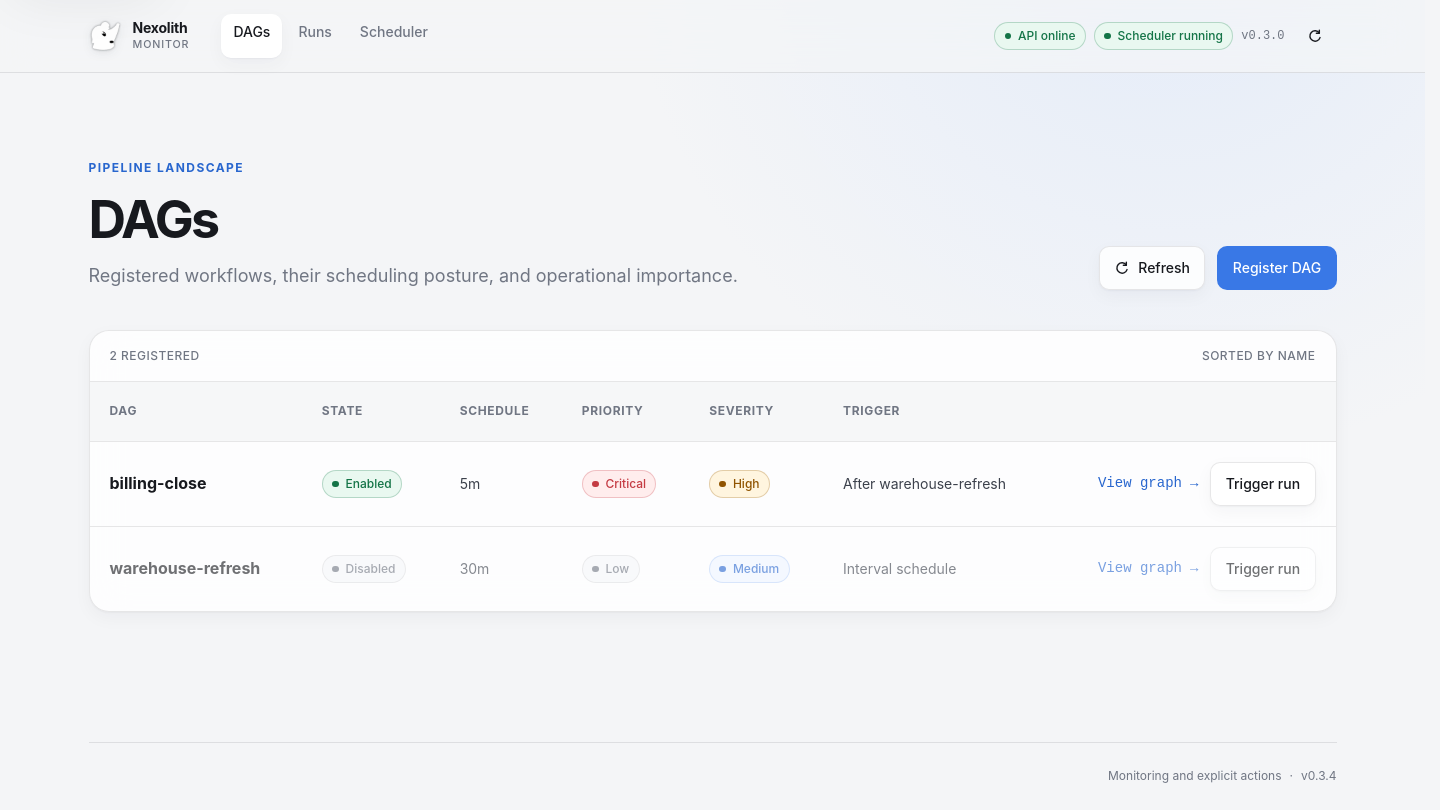
Test: prevents duplicate submissions and traps keyboard focus
Click the button "Register DAG" at (1277, 268), box [1217,246,1336,290]
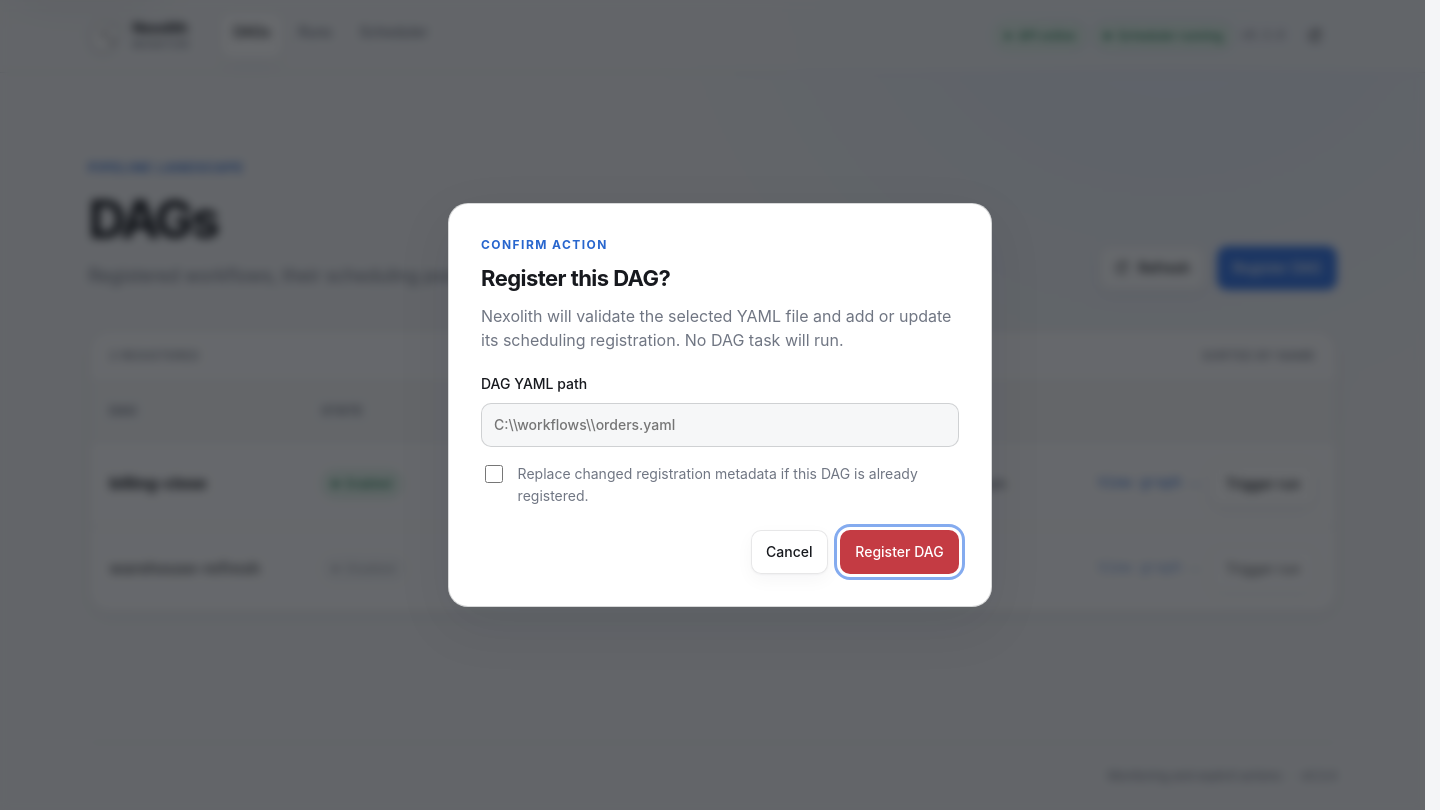
Press Tab
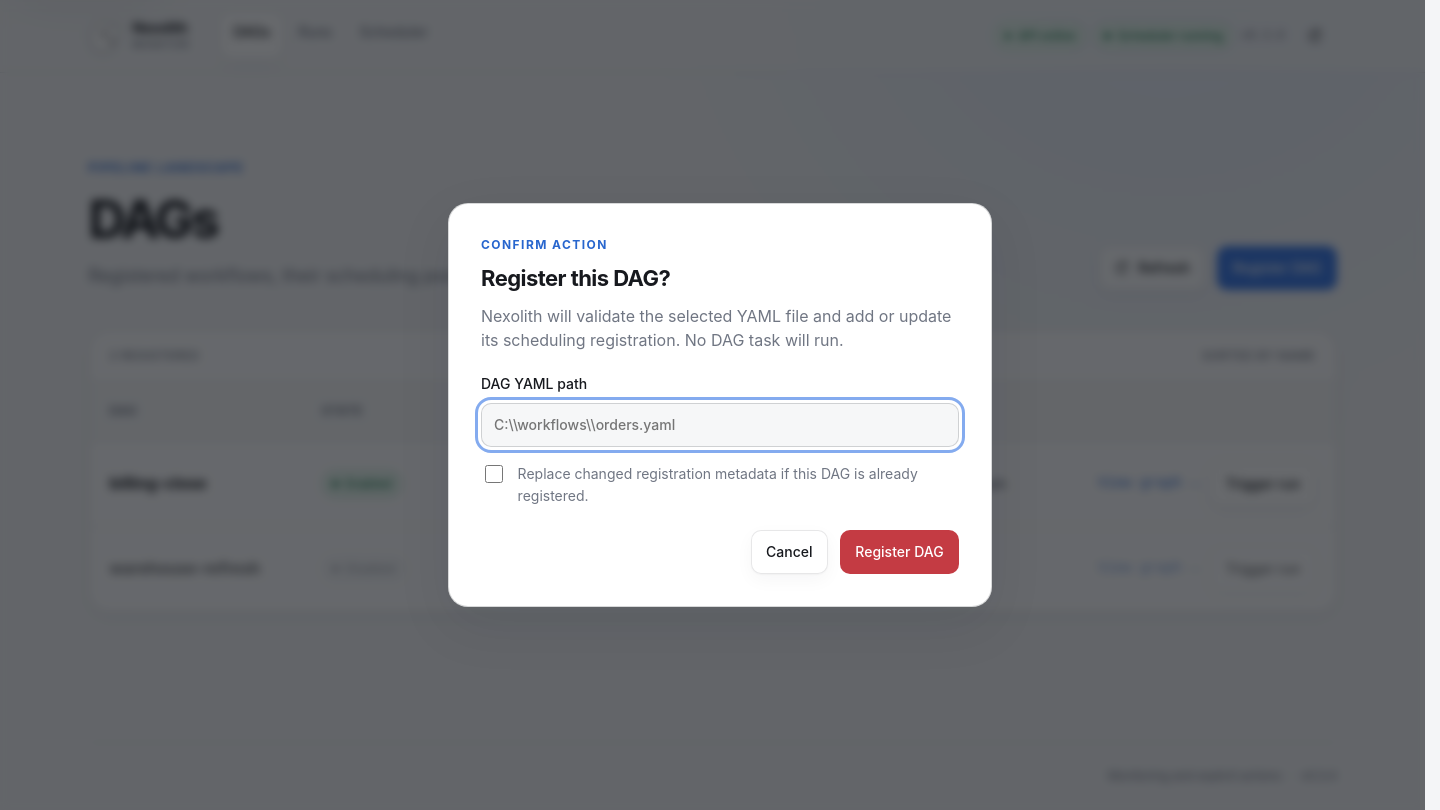
Type "orders.yaml" into the field labelled "DAG YAML path" at (720, 425), box [481,403,959,447]
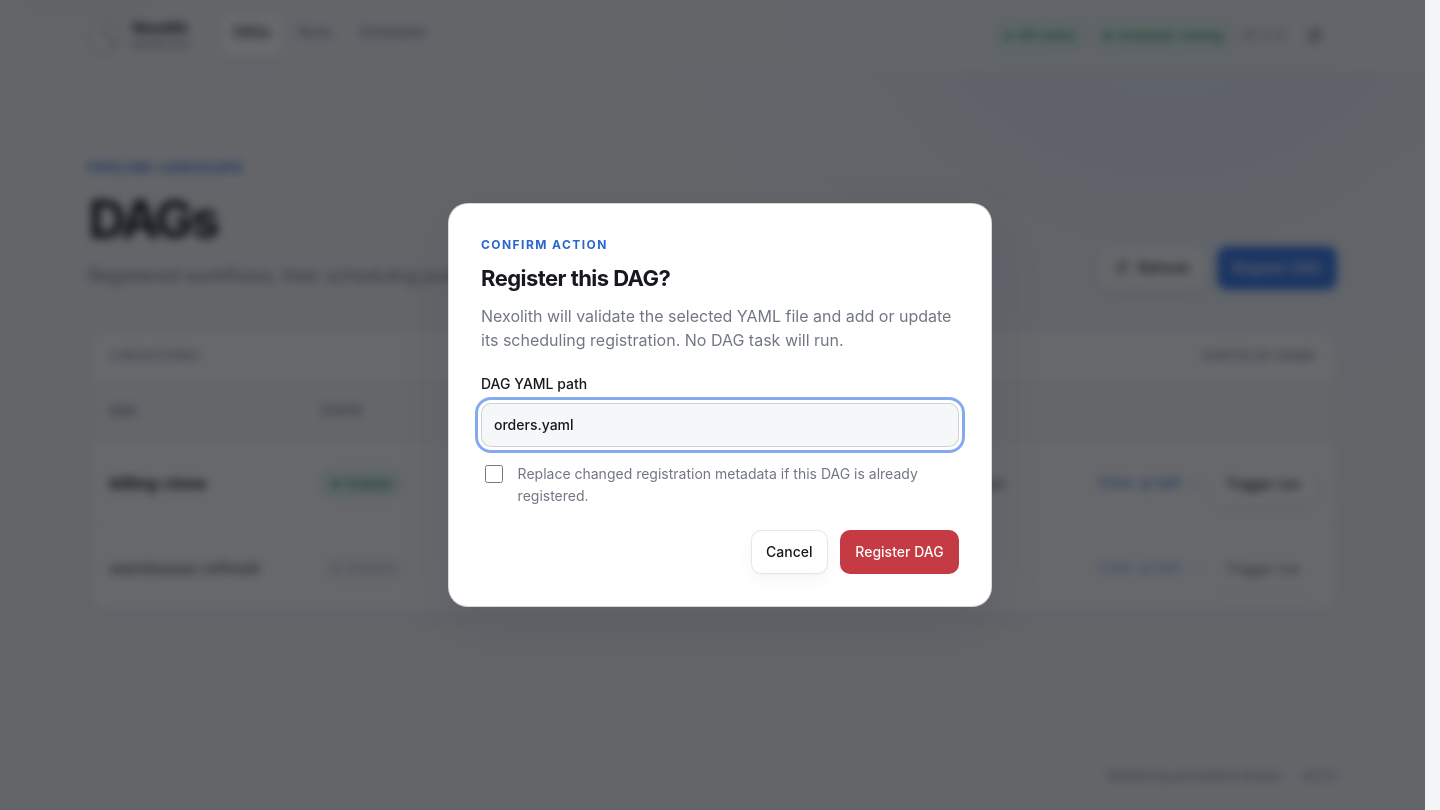
Click the button "Register DAG" at (899, 552), box [840,530,959,574]
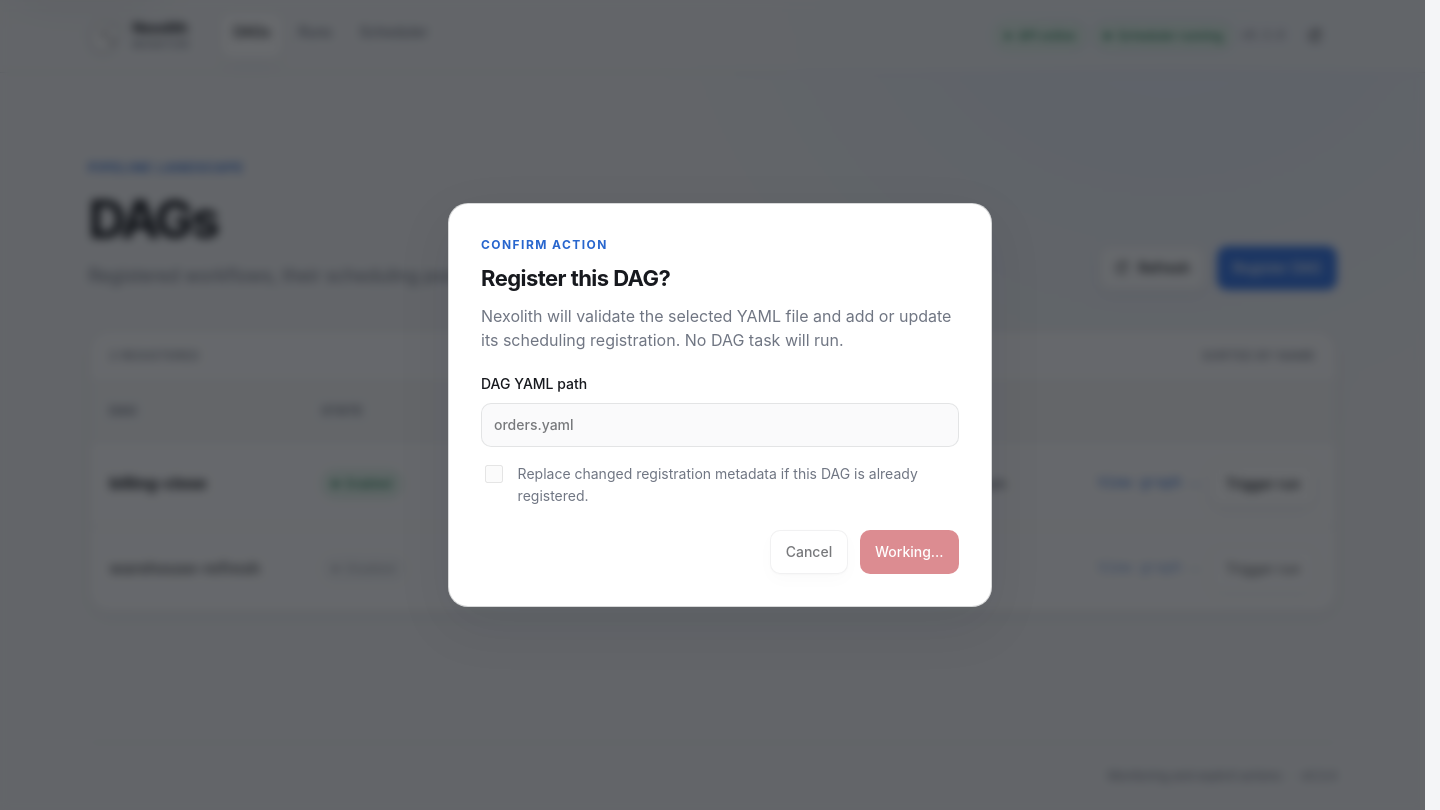
Result: the button "Working…" is disabled
Click the button "Working…" at (909, 552), box [860,530,959,574]
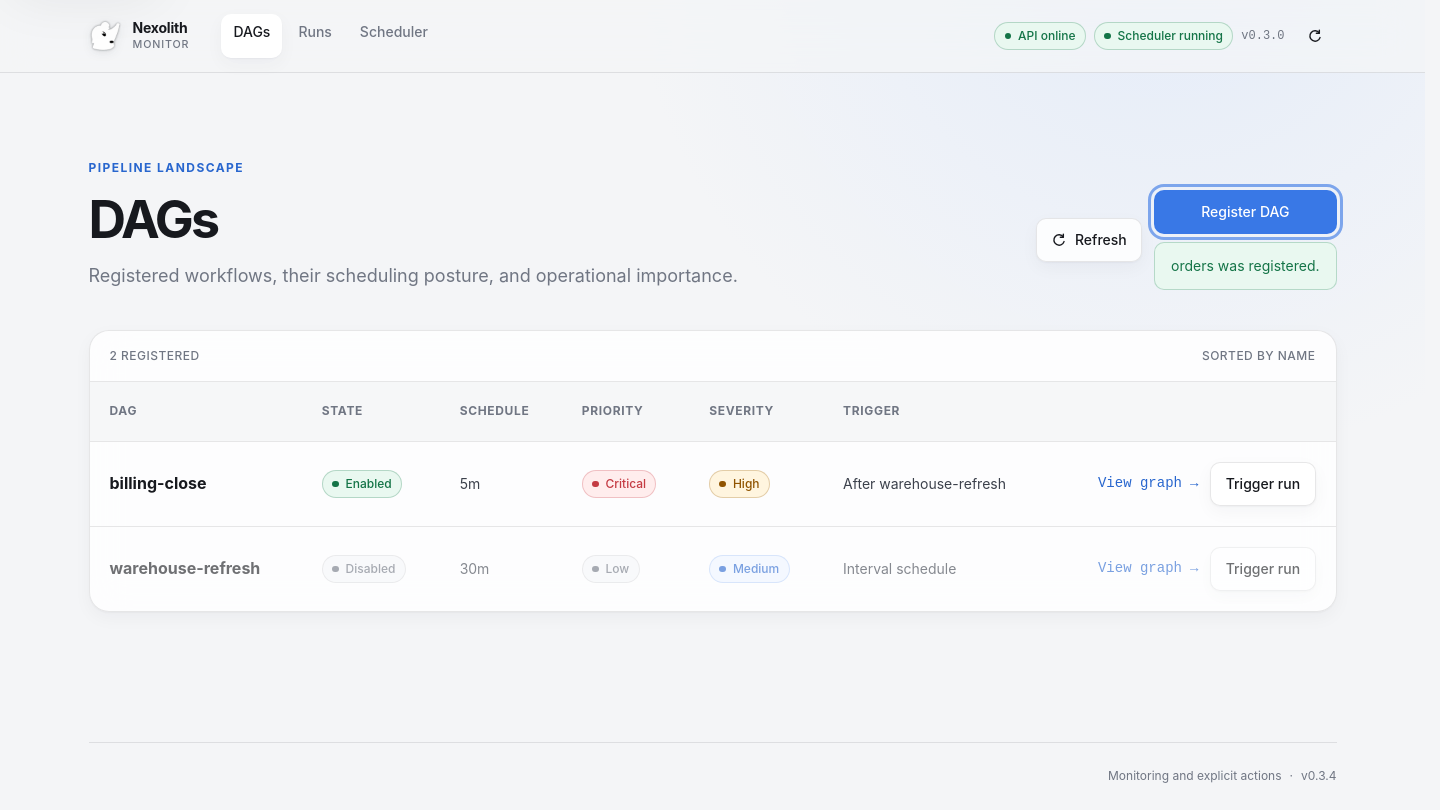
Result: the text "orders was registered." is shown at [1154,242,1336,290]
